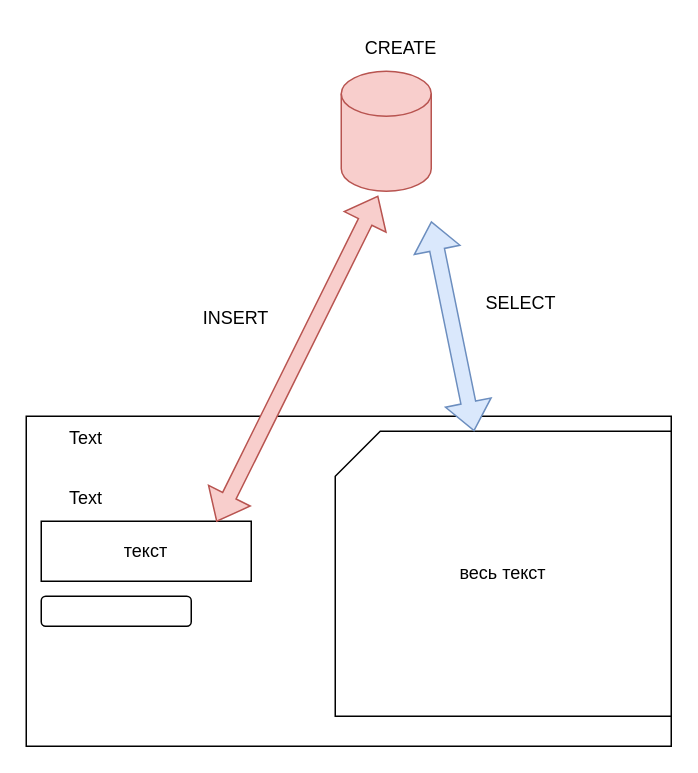
Some shapes in this 698 by 773 pixel diagram are drawn without their labels. The shapes that lost their labels are listed below. From the top down, each one's centre as x and y in pixels, then its label:
At (385,130): "sqlite".
At (115,610): "отправить".
